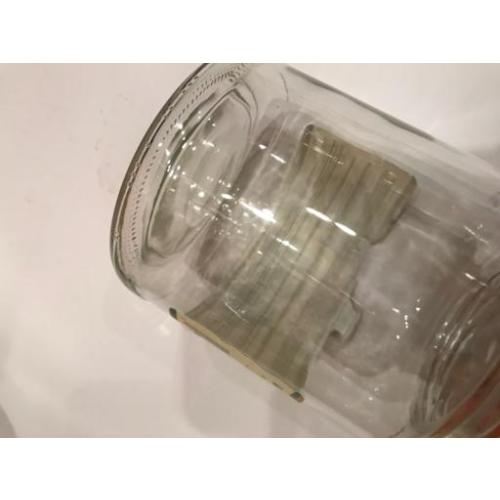glass: (112, 63, 498, 437)
